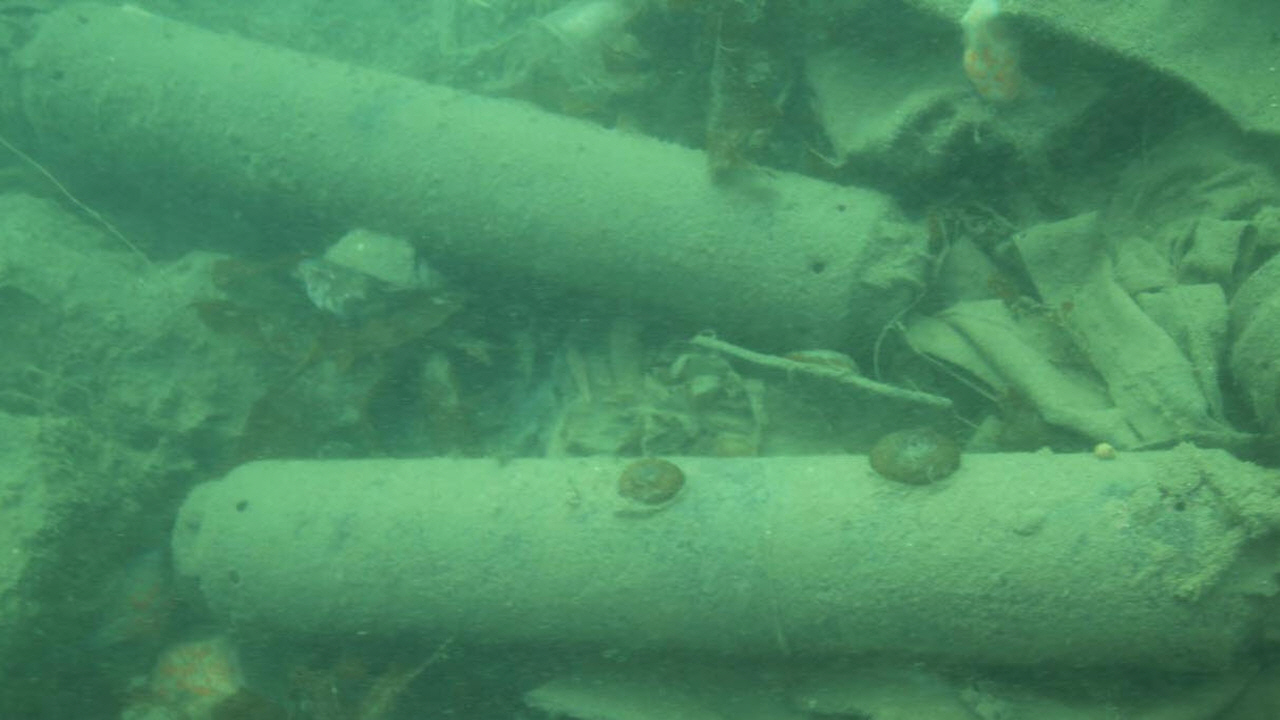eel fish trap: (168, 448, 1280, 669)
